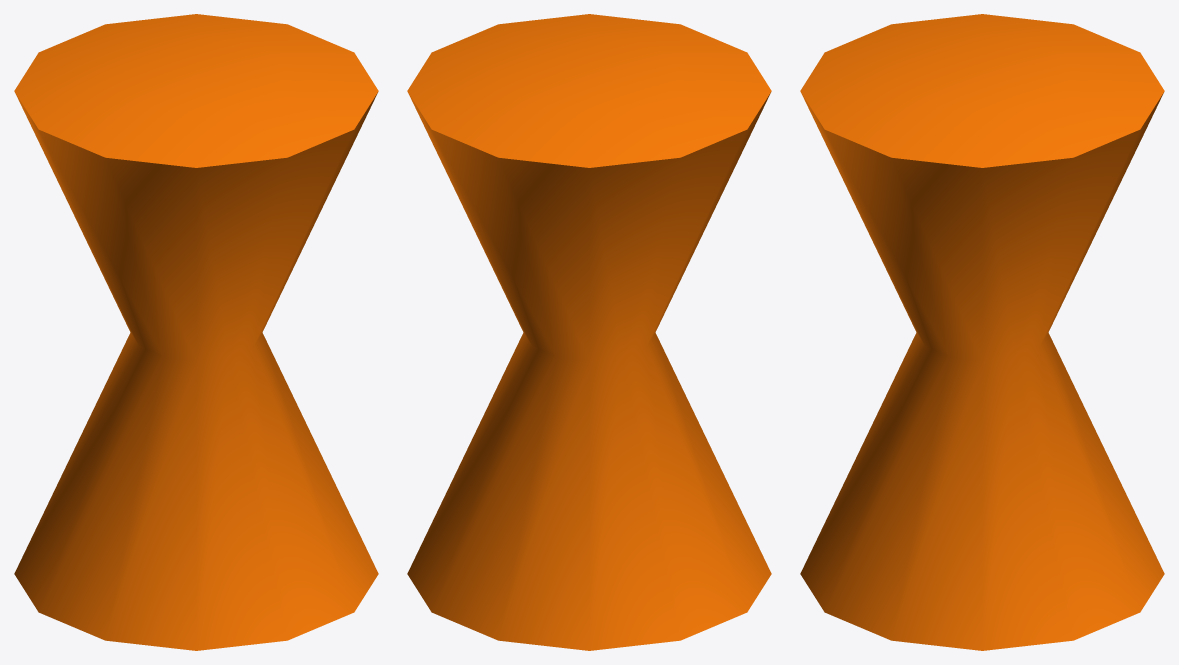
Rendered from tabouret.FBX.
The picture shows the model from 3 angles, left to right: view 1: azimuth 30°, elevation 25°; view 2: azimuth 150°, elevation 25°; view 3: azimuth 270°, elevation 25°; orthographic projection.
Parts seen in each view (by area): view 1: tabouret; view 2: tabouret; view 3: tabouret.
Boxes of the visible parts, left/top/right/bottom form: tabouret: left=14, top=14, right=378, bottom=650; tabouret: left=407, top=14, right=771, bottom=650; tabouret: left=800, top=14, right=1164, bottom=650.
Bounding box in the file's own units: 4.17 × 6.31 × 4.17.
